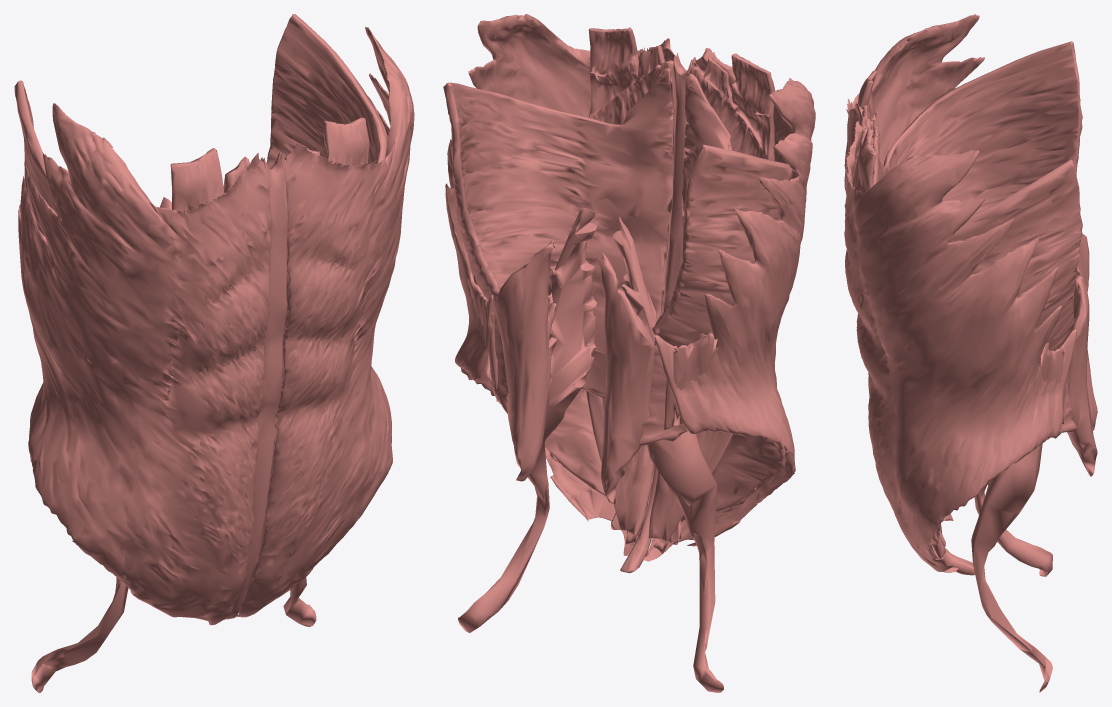
File: muscles-abdomen.lo.glb
The picture shows the model from 3 angles, left to right: view 1: azimuth 30°, elevation 25°; view 2: azimuth 150°, elevation 25°; view 3: azimuth 270°, elevation 25°; orthographic projection. The views are drawn at different scales.
Parts seen in each view (by area): view 1: FJ1452, FJ1452M, ZA-transverse-abdomen-g, FJ1448, ZA-droit-abdomen-d, FJ1431, ZA-transverse-abdomen-d, ZA-droit-abdomen-g, FJ1431M, ZA-oblique-interne-g; view 2: ZA-transverse-abdomen-g, FJ1452, ZA-transverse-abdomen-d, FJ1452M, FJ1431M, ZA-carre-lombes-g, ZA-droit-abdomen-g, FJ1431, ZA-carre-lombes-d, ZA-droit-abdomen-d, FJ1448, ZA-oblique-interne-d (+1 smaller); view 3: FJ1452M, ZA-transverse-abdomen-d, ZA-transverse-abdomen-g, FJ1452, FJ1431M, ZA-carre-lombes-g, FJ1431, ZA-droit-abdomen-g, ZA-oblique-interne-g, ZA-carre-lombes-d, ZA-droit-abdomen-d, FJ1448.
Boxes of the visible parts, left/top/right/bottom form: FJ1452: left=18, top=103, right=271, bottom=625; FJ1452M: left=236, top=27, right=414, bottom=617; ZA-transverse-abdomen-g: left=239, top=14, right=387, bottom=612; FJ1448: left=225, top=152, right=287, bottom=619; ZA-droit-abdomen-d: left=170, top=148, right=249, bottom=211; FJ1431: left=31, top=197, right=171, bottom=692; ZA-transverse-abdomen-d: left=14, top=80, right=209, bottom=624; ZA-droit-abdomen-g: left=284, top=117, right=369, bottom=165; FJ1431M: left=283, top=577, right=316, bottom=626; ZA-oblique-interne-g: left=240, top=157, right=288, bottom=608; ZA-transverse-abdomen-g: left=443, top=68, right=673, bottom=544; FJ1452: left=643, top=48, right=815, bottom=561; ZA-transverse-abdomen-d: left=639, top=73, right=792, bottom=553; FJ1452M: left=445, top=14, right=674, bottom=555; FJ1431M: left=458, top=208, right=597, bottom=632; ZA-carre-lombes-g: left=494, top=240, right=557, bottom=481; ZA-droit-abdomen-g: left=586, top=27, right=676, bottom=536; FJ1431: left=613, top=216, right=723, bottom=692; ZA-carre-lombes-d: left=595, top=252, right=655, bottom=504; ZA-droit-abdomen-d: left=648, top=53, right=774, bottom=541; FJ1448: left=620, top=53, right=695, bottom=573; ZA-oblique-interne-d: left=664, top=63, right=789, bottom=521; FJ1452M: left=844, top=121, right=1076, bottom=572; ZA-transverse-abdomen-d: left=873, top=41, right=1082, bottom=214; ZA-transverse-abdomen-g: left=872, top=136, right=1082, bottom=551; FJ1452: left=844, top=14, right=984, bottom=521; FJ1431M: left=971, top=443, right=1052, bottom=692; ZA-carre-lombes-g: left=1067, top=265, right=1097, bottom=476; FJ1431: left=974, top=482, right=1052, bottom=576; ZA-droit-abdomen-g: left=854, top=128, right=945, bottom=558; ZA-oblique-interne-g: left=852, top=148, right=1065, bottom=546; ZA-carre-lombes-d: left=1078, top=233, right=1097, bottom=430; ZA-droit-abdomen-d: left=858, top=70, right=945, bottom=546; FJ1448: left=860, top=116, right=974, bottom=575.
Bounding box in the file's own units: 0.2816 × 0.4764 × 0.1979.
